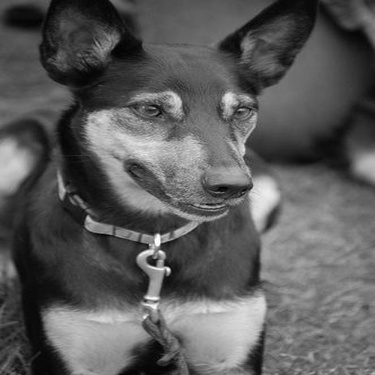dog: (4, 1, 325, 373)
